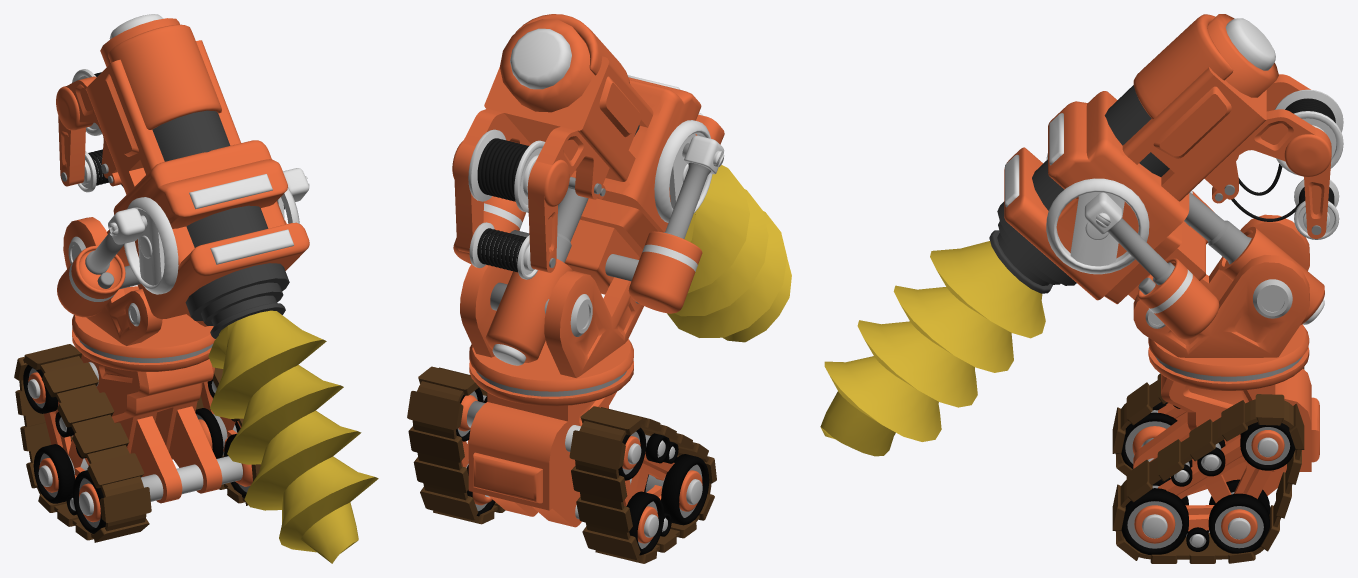
Rendered from Red-Drill-gltf-export-03.gltf.
3 renders of one model, left to right at view 1: azimuth 30°, elevation 25°; view 2: azimuth 150°, elevation 25°; view 3: azimuth 270°, elevation 25°, orthographic. The views are drawn at different scales.
Visible parts, largest first — view 1: Head.002, Cube.012, NurbsPath.004, Cube.011, Head.001, Retopo_Red-Loop.001, Rotation-Base.002, Rotary Wheel.003, Large-wheels-exterior.002, bolt.004, Staff.002, Cylinder.002 (+13 smaller); view 2: Cube.012, NurbsPath.004, Head.002, Cube.011, bolt.004, Rotation-Base.002, Staff.002, Cylinder.053, Drill-End Piece, Large-wheels-exterior.002, Drill-End Piece.001, Rotary Wheel.003 (+20 smaller); view 3: Cube.012, Head.002, NurbsPath.004, bolt.004, Cube.011, Head.001, Rotary Wheel.003, Large-wheels-exterior.002, Retopo_Red-Loop.001, Rotation-Base.002, Staff.002, Tread-Frame.003 (+18 smaller).
Part boxes in pixels (x1,y1,x2,y2): Head.002: (208, 310, 378, 563); Cube.012: (56, 40, 309, 319); NurbsPath.004: (14, 344, 260, 542); Cube.011: (81, 354, 222, 503); Head.001: (152, 110, 289, 338); Retopo_Red-Loop.001: (108, 24, 221, 129); Rotation-Base.002: (72, 286, 215, 371); Rotary Wheel.003: (124, 187, 299, 294); Large-wheels-exterior.002: (23, 365, 246, 534); bolt.004: (63, 217, 208, 345); Staff.002: (57, 220, 286, 317); Cylinder.002: (141, 456, 242, 501); Cube.012: (452, 56, 724, 294); NurbsPath.004: (407, 366, 716, 563); Head.002: (667, 165, 791, 342); Cube.011: (468, 392, 616, 527); bolt.004: (460, 264, 643, 377); Rotation-Base.002: (469, 339, 633, 406); Staff.002: (453, 196, 702, 313); Cylinder.053: (485, 259, 572, 362); Drill-End Piece: (500, 19, 592, 112); Large-wheels-exterior.002: (456, 387, 709, 555); Drill-End Piece.001: (510, 28, 571, 89); Rotary Wheel.003: (654, 120, 712, 222); Cube.012: (1004, 67, 1331, 304); Head.002: (820, 241, 1045, 456); NurbsPath.004: (1112, 367, 1304, 563); bolt.004: (1133, 214, 1309, 357); Cube.011: (1133, 369, 1319, 495); Head.001: (989, 85, 1169, 293); Rotary Wheel.003: (1046, 153, 1149, 274); Large-wheels-exterior.002: (1121, 402, 1295, 554); Retopo_Red-Loop.001: (1133, 14, 1233, 119); Rotation-Base.002: (1148, 324, 1309, 390); Staff.002: (1138, 191, 1219, 339); Tread-Frame.003: (1158, 403, 1271, 531).
Bounding box in the file's own units: 3.2 × 6.92 × 6.63.
